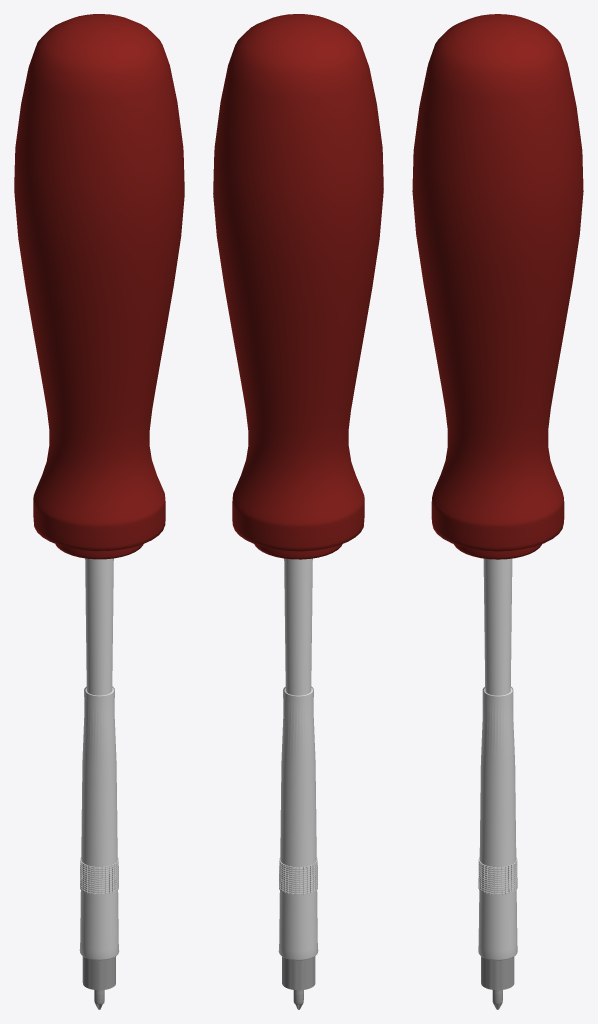
The model's file is serew dryver up.fbx.
The picture shows the model from 3 angles, left to right: view 1: azimuth 30°, elevation 25°; view 2: azimuth 150°, elevation 25°; view 3: azimuth 270°, elevation 25°; orthographic projection.
Visible parts, largest first — view 1: polySurface26; view 2: polySurface26; view 3: polySurface26.
Boxes of the visible parts, x1,y1,x2,y2 form: polySurface26: [14, 14, 184, 1009]; polySurface26: [213, 14, 383, 1009]; polySurface26: [412, 14, 583, 1009].
Bounding box in the file's own units: 1.74 × 11.08 × 1.74.
